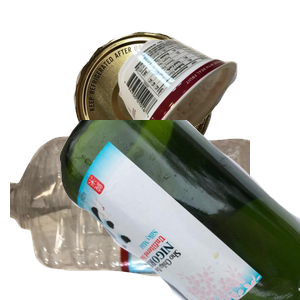glass: (60, 120, 300, 300)
metal: (71, 29, 276, 193)
plastic: (10, 134, 250, 300)
trash: (116, 36, 300, 187)
